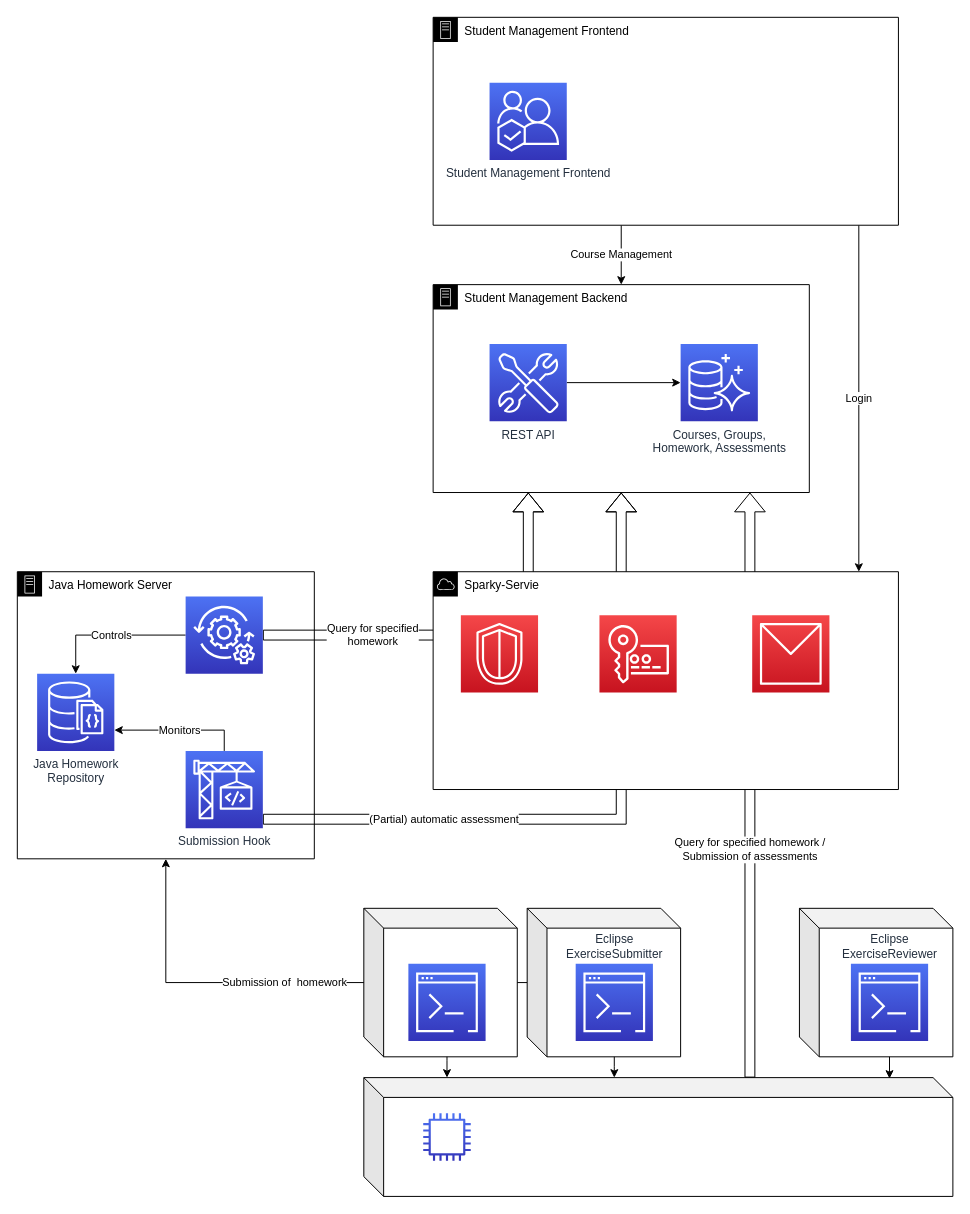
This 970x1214 diagram has some shape labels left out. Here are the shapes that lost their labels. From the top down, the centre of each, then its label:
point 224,634: Rights Management
point 499,653: Routing & Access Control of Services
point 637,653: Authentification (LDAP, local Users)
point 790,653: User Profiles (Notifications, AI acceptance, ...)
point 446,1002: Standalone ExerciseSubmitter
point 446,1136: Submission Protocol
